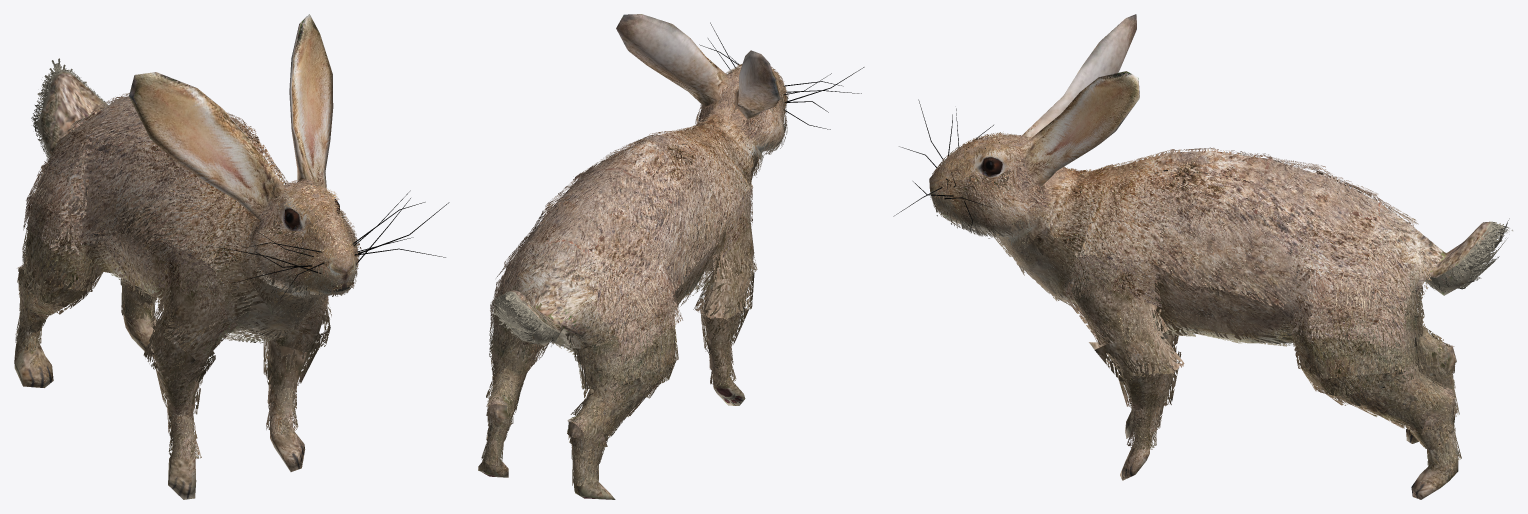
File: rabbit20005.obj
3 views of the same model, side by side, from view 1: azimuth 30°, elevation 25°; view 2: azimuth 150°, elevation 25°; view 3: azimuth 270°, elevation 25° (orthographic). The views are drawn at different scales.
Parts seen in each view (by area): view 1: Rabbit, Fur; view 2: Rabbit, Fur; view 3: Fur, Rabbit.
Boxes of the visible parts, x1,y1,x2,y2 form: Rabbit: (14,14,449,499); Fur: (15,58,361,460); Rabbit: (478,14,864,499); Fur: (481,64,788,487); Fur: (930,132,1512,468); Rabbit: (893,14,1494,499).
Size of the model in its own units: 8.01 by 15.4 by 20.72.
